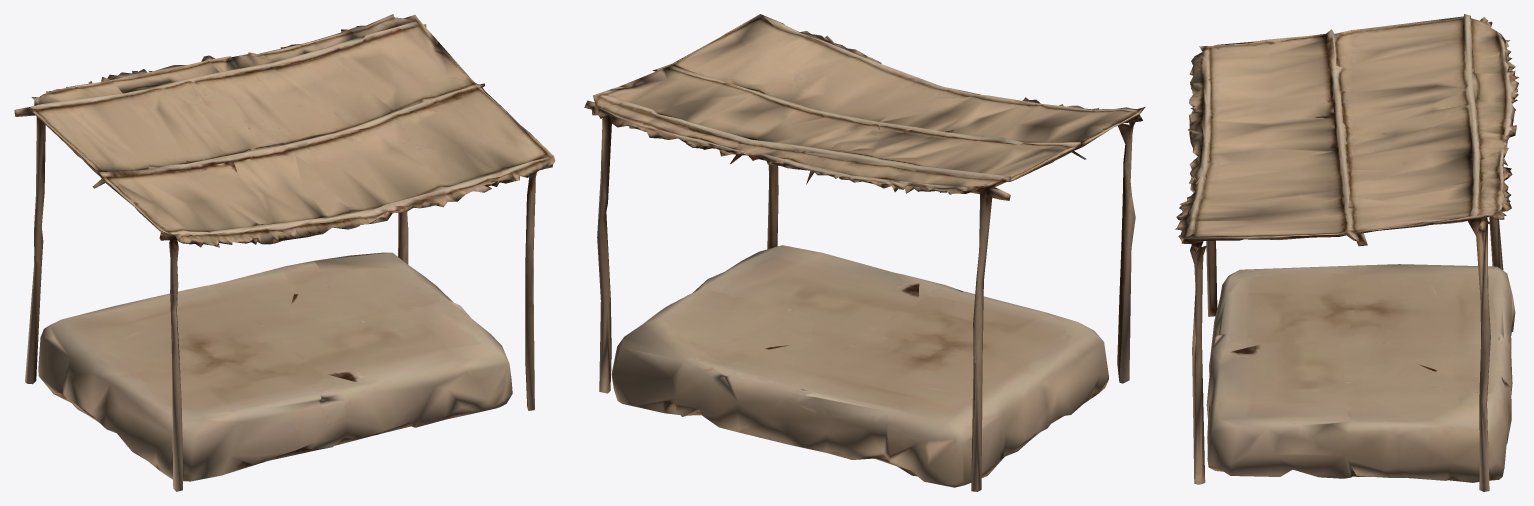
File: bozor_rastasi.glb
3 renders of one model, left to right at view 1: azimuth 30°, elevation 25°; view 2: azimuth 150°, elevation 25°; view 3: azimuth 270°, elevation 25°, orthographic. The views are drawn at different scales.
Parts seen in each view (by area): view 1: tripo_node_d1ffae4c-03ad-4d1e-882c-cc7cb29ba7f8; view 2: tripo_node_d1ffae4c-03ad-4d1e-882c-cc7cb29ba7f8; view 3: tripo_node_d1ffae4c-03ad-4d1e-882c-cc7cb29ba7f8.
Part boxes in pixels (left/top/right/bottom): tripo_node_d1ffae4c-03ad-4d1e-882c-cc7cb29ba7f8: left=14, top=14, right=555, bottom=491; tripo_node_d1ffae4c-03ad-4d1e-882c-cc7cb29ba7f8: left=584, top=14, right=1145, bottom=491; tripo_node_d1ffae4c-03ad-4d1e-882c-cc7cb29ba7f8: left=1175, top=14, right=1518, bottom=491.
Bounding box in the file's own units: 0.9767 × 0.6725 × 0.7164.
1 material, 1 textured.
